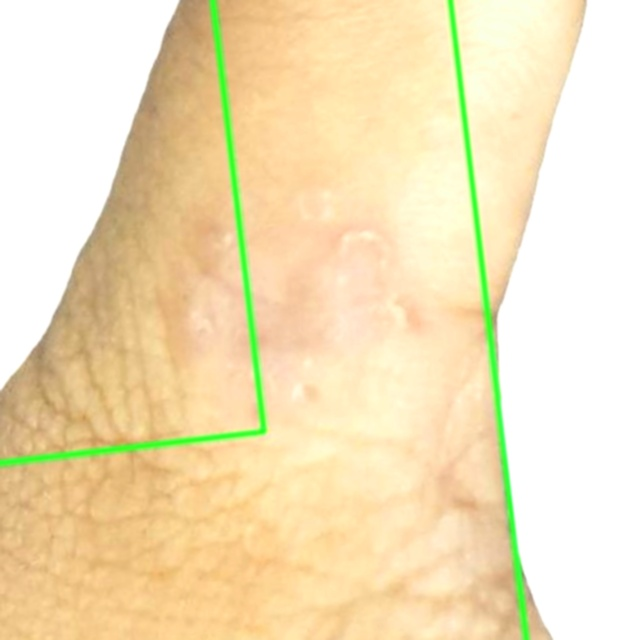Scabies: (0, 0, 263, 463)
